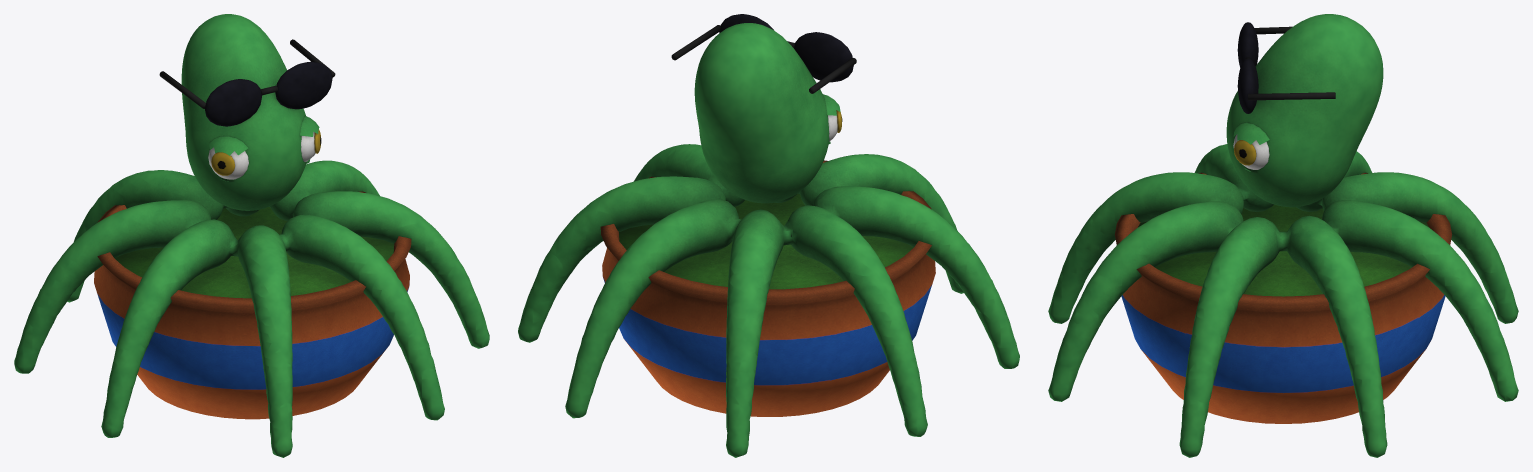
The model's file is MolokhiaKraken.fbx.
The picture shows the model from 3 angles, left to right: view 1: azimuth 30°, elevation 25°; view 2: azimuth 150°, elevation 25°; view 3: azimuth 270°, elevation 25°; orthographic projection. The views are drawn at different scales.
Parts seen in each view (by area): view 1: MolokhiaKraken; view 2: MolokhiaKraken; view 3: MolokhiaKraken.
Boxes of the visible parts, box(x1,y1,x2,y2) form: MolokhiaKraken: box(14, 14, 489, 457); MolokhiaKraken: box(518, 14, 1019, 457); MolokhiaKraken: box(1048, 14, 1518, 457).
Bounding box in the file's own units: 563 × 472 × 563.
1 material, 1 textured.
